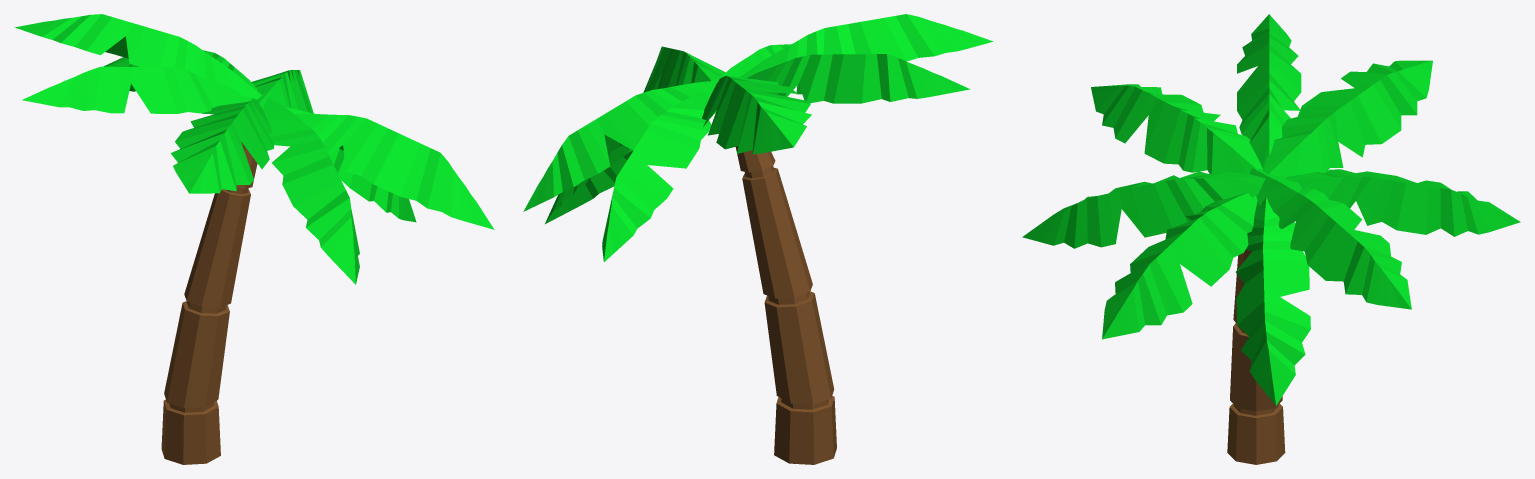
File: PalmTree.fbx
3 views of the same model, side by side, from view 1: azimuth 30°, elevation 25°; view 2: azimuth 150°, elevation 25°; view 3: azimuth 270°, elevation 25° (orthographic). The views are drawn at different scales.
Visible parts, largest first — view 1: Plane.017; view 2: Plane.017; view 3: Plane.017.
Boxes of the visible parts, x1,y1,x2,y2 form: Plane.017: (14,14,494,464); Plane.017: (523,14,993,464); Plane.017: (1022,14,1520,464).
Bounding box in the file's own units: 1071 × 1029 × 1233.
